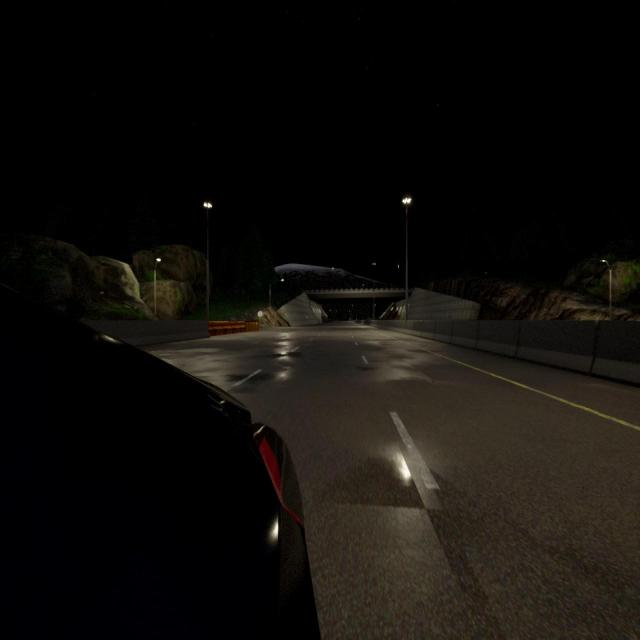Traffic_Signs: (257, 310, 263, 317)
Vehicle: (0, 309, 319, 640)
